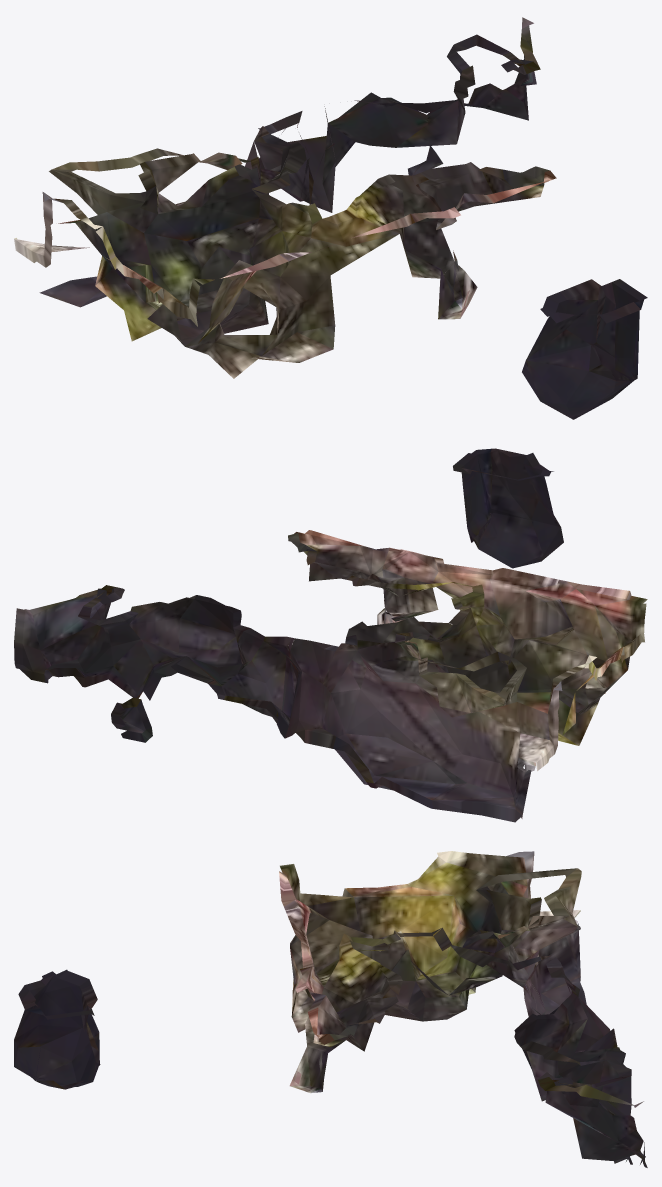
3 renders of one model, top to bottom at view 1: azimuth 30°, elevation 25°; view 2: azimuth 150°, elevation 25°; view 3: azimuth 270°, elevation 25°, orthographic. The views are drawn at different scales.
Visible parts, largest first — view 1: Mesh_0; view 2: Mesh_0; view 3: Mesh_0.
Boxes of the visible parts, bbox=[...] form: Mesh_0: bbox=[14, 17, 647, 419]; Mesh_0: bbox=[14, 448, 647, 822]; Mesh_0: bbox=[14, 851, 647, 1167].
Bounding box in the file's own units: 29.15 × 7.19 × 30.22.
Materials: 1 (1 with a texture image).
